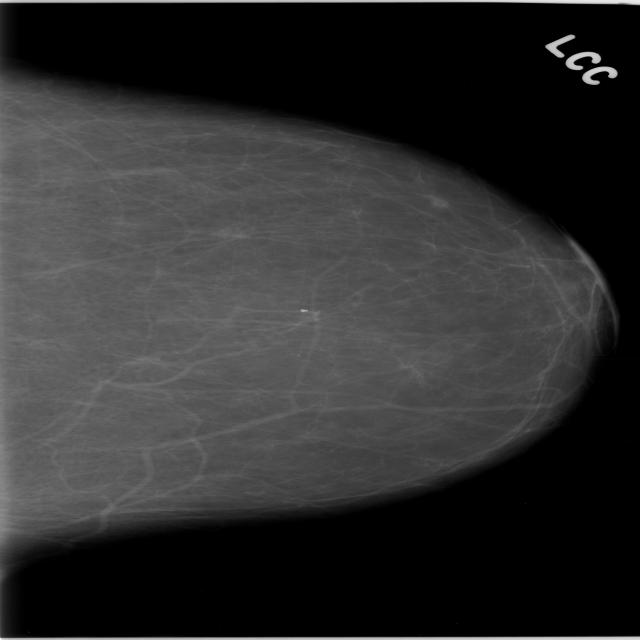normal: (0, 71, 605, 542)
